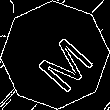M_NW: (21, 21, 89, 89)
